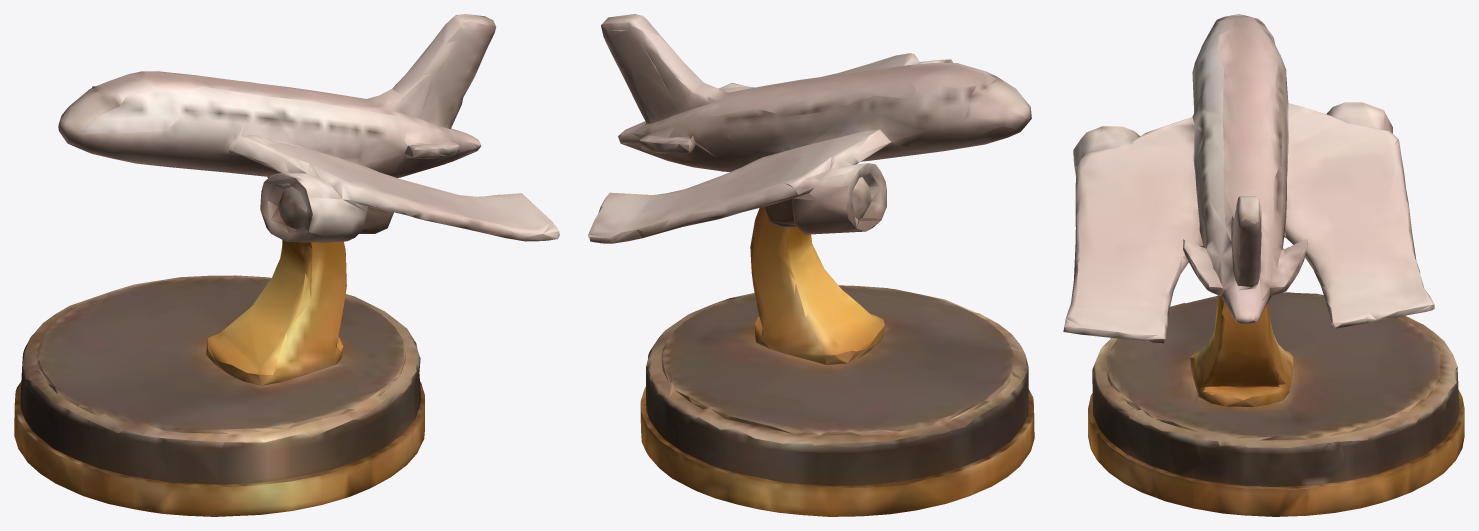
File: deco32.glb
The picture shows the model from 3 angles, left to right: view 1: azimuth 30°, elevation 25°; view 2: azimuth 150°, elevation 25°; view 3: azimuth 270°, elevation 25°; orthographic projection. The views are drawn at different scales.
Bounding box in the file's own units: 0.1987 × 0.1704 × 0.1705.
1 material, 1 textured.
